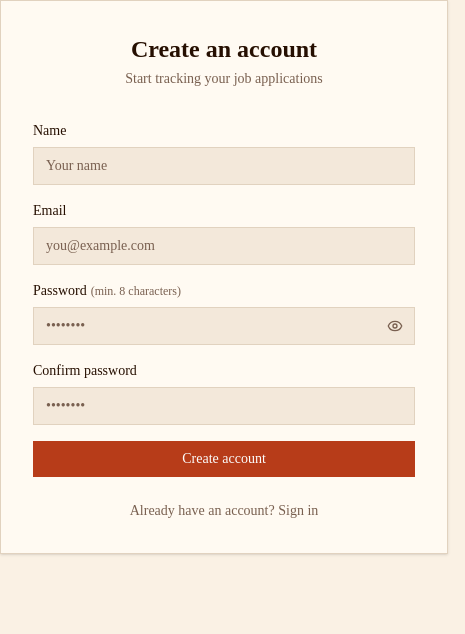
Test: RegisterPage › shows error when passwords do not match
Type "Test User" into the field labelled "Name".
click(224, 166); type("Test User")  # box [33,147,415,185]
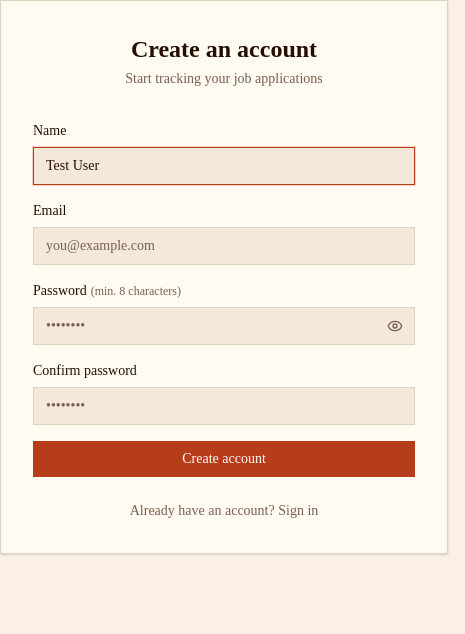
Type "test@example.com" into the field labelled "Email".
click(224, 246); type("test@example.com")  # box [33,227,415,265]
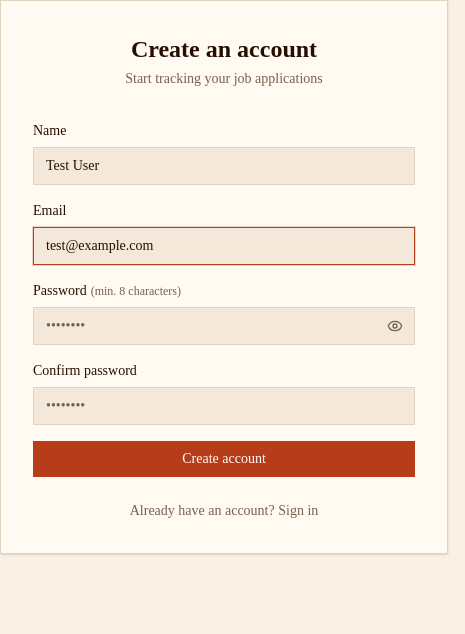
Type "password123" into the password field labelled "Password(min. 8 characters)".
click(224, 326); type("password123")  # box [33,307,415,345]
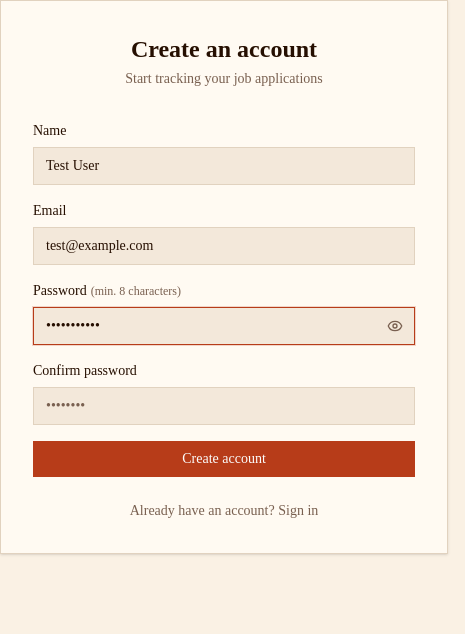
Type "different99" into the password field labelled "Confirm password".
click(224, 406); type("different99")  # box [33,387,415,425]
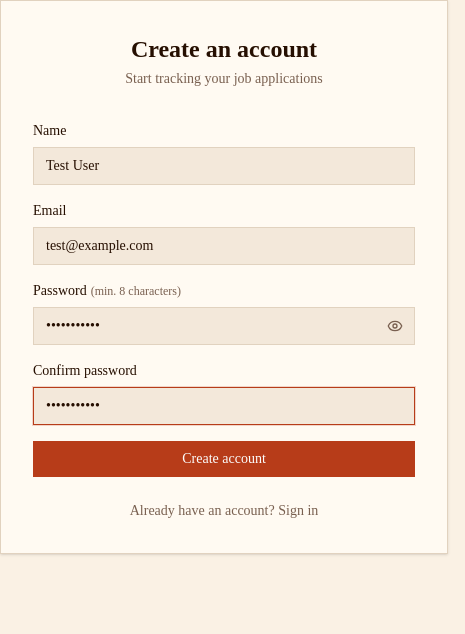
Click the button "Create account".
click(224, 459)  # box [33,441,415,477]
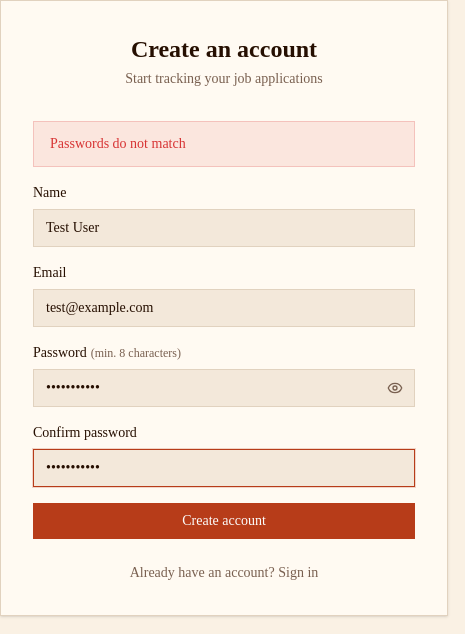
Now the message reads "Passwords do not match", box [50,136,186,151]
